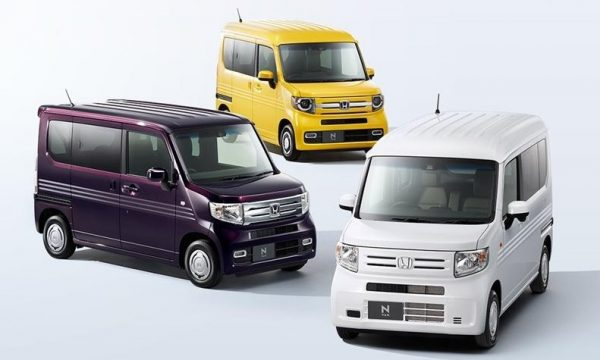van: (34, 95, 318, 286), (331, 112, 557, 349)
